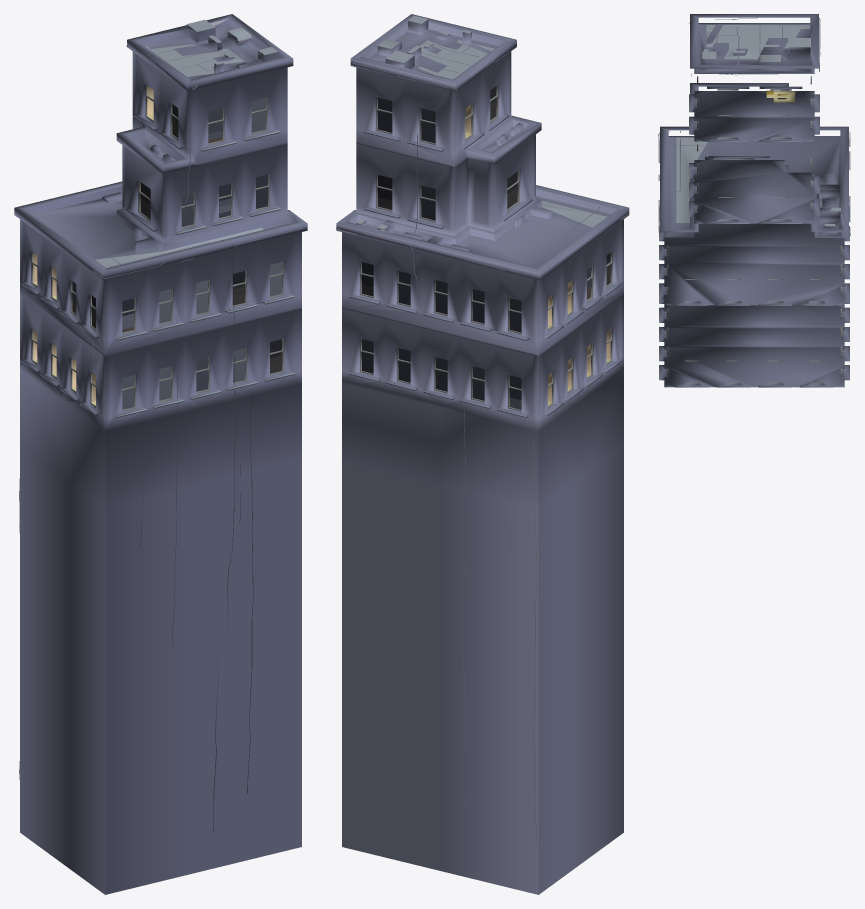
Rendered from mesh_bdg_G_06.gltf.
3 renders of one model, left to right at view 1: azimuth 30°, elevation 25°; view 2: azimuth 150°, elevation 25°; view 3: azimuth 270°, elevation 25°, orthographic. The views are drawn at different scales.
Parts seen in each view (by area): view 1: geo1; view 2: geo1; view 3: geo1.
Part boxes in pixels (<box>): geo1: <box>14,14,307,894</box>; geo1: <box>336,14,629,894</box>; geo1: <box>658,14,850,387</box>.
Bounding box in the file's own units: 8.37 × 30.54 × 6.38.
